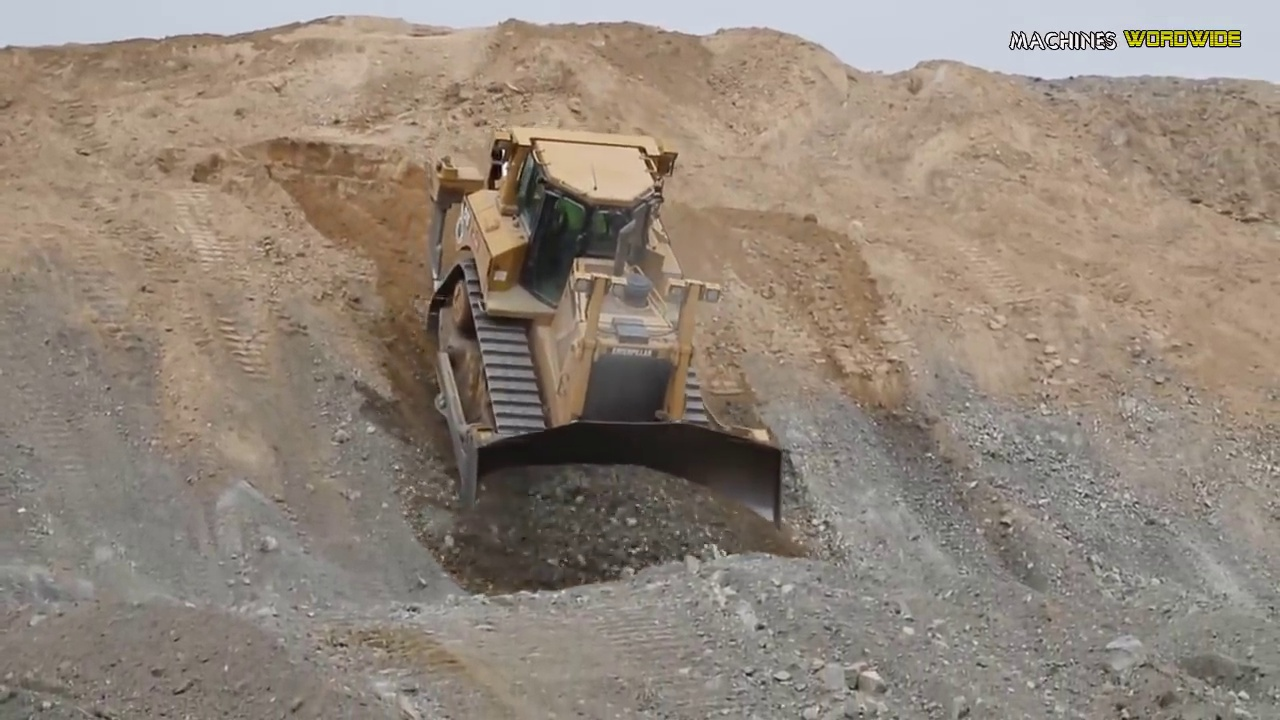bulldozer: (427, 126, 806, 545)
